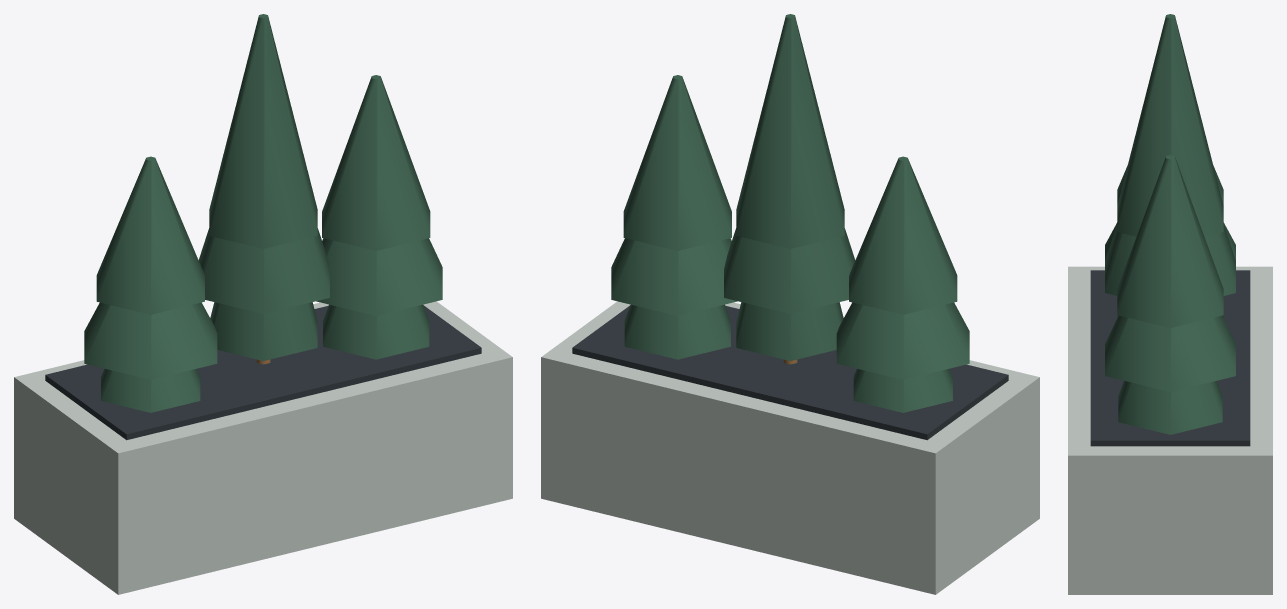
The model's file is planter.lod2.glb.
3 renders of one model, left to right at view 1: azimuth 30°, elevation 25°; view 2: azimuth 150°, elevation 25°; view 3: azimuth 270°, elevation 25°, orthographic.
Parts seen in each view (by area): view 1: structure; view 2: structure; view 3: structure.
Part boxes in pixels (x1,y1,x2,y2): structure: [14, 14, 512, 594]; structure: [541, 14, 1039, 594]; structure: [1068, 14, 1272, 594].
Bounding box in the file's own units: 3.5 × 4.18 × 1.6.
